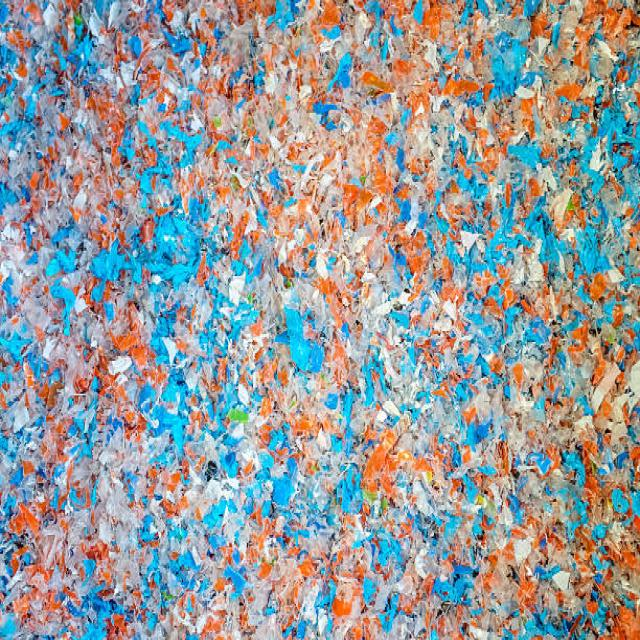trash: (20, 12, 628, 608)
